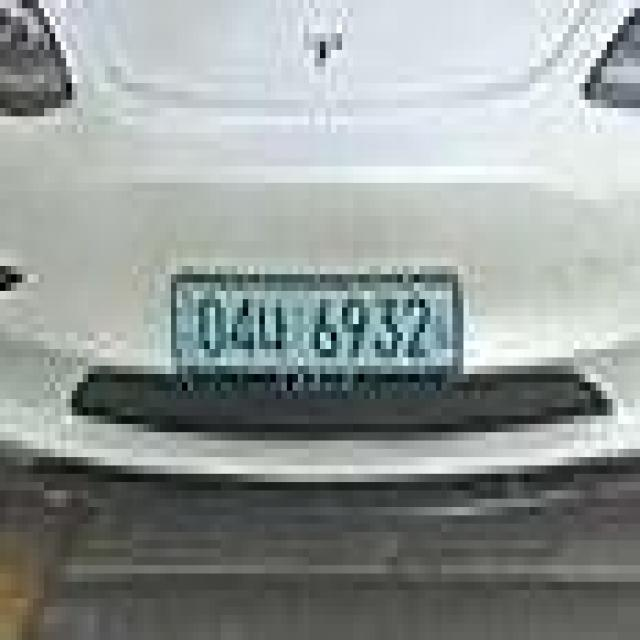EV_plate: (168, 266, 464, 403)
